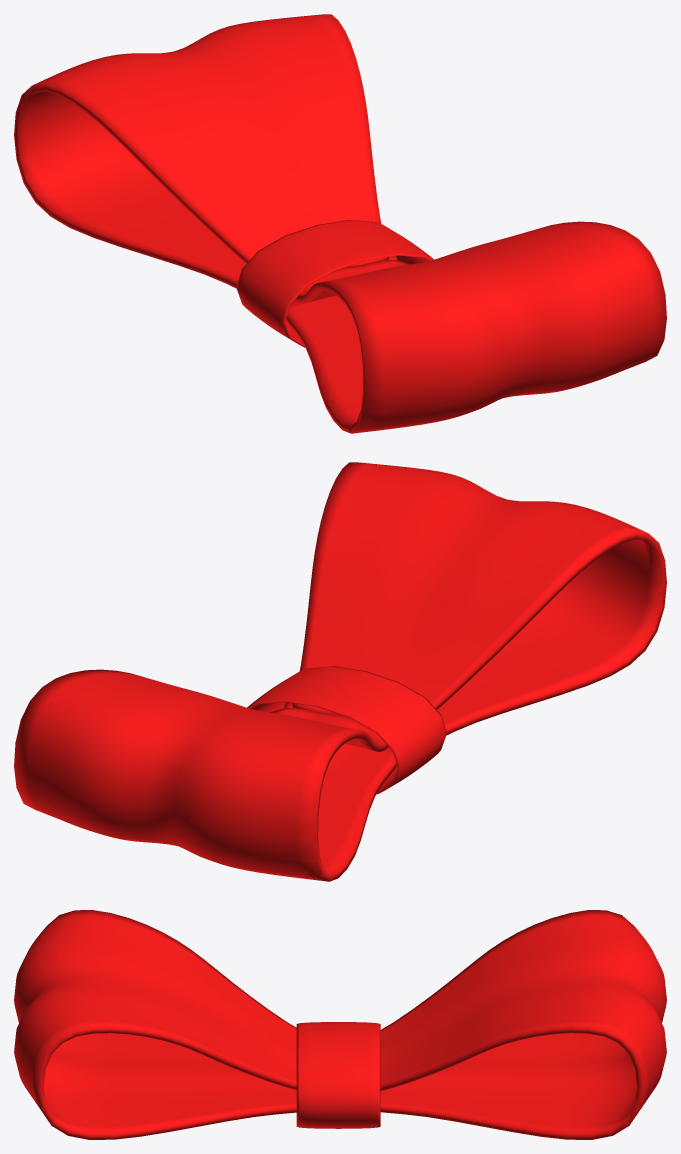
File: ribbon.glb
The picture shows the model from 3 angles, top to bottom: view 1: azimuth 30°, elevation 25°; view 2: azimuth 150°, elevation 25°; view 3: azimuth 270°, elevation 25°; orthographic projection. The views are drawn at different scales.
Visible parts, largest first — view 1: Object_2; view 2: Object_2; view 3: Object_2.
Part boxes in pixels (x1,y1,x2,y2): Object_2: (14,14,666,433); Object_2: (14,462,666,881); Object_2: (14,910,666,1139).
Size of the model in its own units: 3.28 by 1.75 by 7.11.
